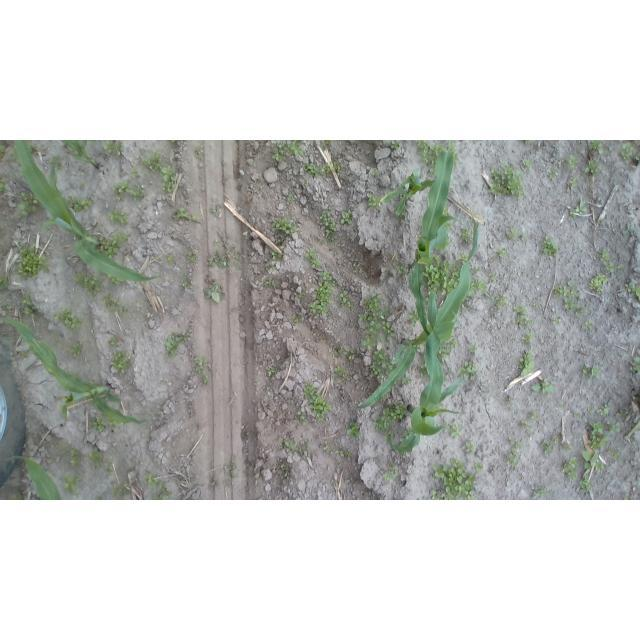Maize: (357, 213, 480, 409), (14, 141, 159, 282), (1, 317, 148, 425), (388, 291, 465, 457), (413, 151, 456, 338), (378, 168, 439, 216), (7, 456, 63, 501), (64, 141, 103, 170)
Weeds: (358, 291, 397, 349), (304, 244, 335, 316), (431, 459, 476, 500), (491, 156, 526, 196), (18, 240, 51, 279), (550, 279, 587, 313), (427, 255, 457, 296), (303, 382, 333, 421), (371, 403, 406, 434), (366, 348, 394, 377), (96, 232, 129, 256), (54, 308, 85, 333), (110, 177, 142, 201), (163, 332, 191, 358), (75, 270, 104, 295), (270, 141, 307, 160), (625, 395, 640, 441), (318, 208, 339, 240), (109, 350, 134, 375), (205, 252, 241, 269), (588, 421, 609, 450), (191, 355, 211, 384), (17, 192, 40, 217), (581, 449, 606, 471), (103, 294, 130, 314), (66, 196, 97, 212), (438, 342, 461, 363), (517, 350, 536, 375), (140, 151, 160, 174), (563, 457, 580, 484), (161, 164, 177, 192), (20, 291, 37, 317), (109, 207, 130, 228), (538, 237, 561, 256), (273, 218, 297, 236), (203, 281, 223, 302), (457, 361, 478, 381), (381, 462, 399, 485), (590, 273, 608, 296), (175, 207, 199, 224), (624, 278, 640, 303), (112, 481, 133, 500), (513, 305, 531, 327), (417, 141, 434, 164), (531, 380, 556, 395), (569, 198, 587, 218), (581, 362, 603, 378), (600, 248, 614, 273), (435, 142, 460, 155), (63, 475, 80, 494), (529, 486, 551, 500), (583, 159, 602, 175), (102, 141, 122, 156), (470, 281, 487, 298), (587, 141, 606, 156), (142, 473, 162, 487), (68, 342, 84, 359), (441, 423, 459, 438), (579, 475, 593, 494), (507, 449, 521, 468), (539, 439, 553, 458), (48, 153, 64, 169), (339, 290, 354, 307), (339, 209, 356, 224), (68, 448, 82, 466), (89, 416, 104, 432), (333, 365, 350, 379), (365, 192, 379, 209), (459, 226, 472, 244), (150, 489, 171, 500), (621, 142, 634, 159), (89, 452, 104, 466), (607, 421, 622, 435), (348, 421, 363, 435), (331, 346, 346, 360), (463, 442, 479, 455), (301, 164, 318, 176), (298, 438, 309, 456), (629, 356, 640, 374), (567, 154, 581, 168), (495, 295, 508, 310), (584, 321, 599, 334), (509, 437, 524, 449), (521, 332, 536, 344), (268, 249, 283, 261), (598, 404, 612, 416), (346, 352, 360, 364), (332, 160, 343, 174), (291, 313, 306, 323), (419, 365, 429, 380), (294, 176, 306, 188), (284, 442, 297, 453), (489, 272, 502, 283), (528, 411, 542, 421), (411, 311, 420, 326), (266, 365, 277, 377), (398, 266, 410, 277), (186, 252, 199, 262), (547, 168, 557, 181), (521, 159, 535, 168), (294, 412, 306, 422), (0, 275, 8, 290), (0, 146, 8, 161), (109, 275, 122, 284), (466, 346, 479, 355), (458, 251, 467, 264), (571, 175, 580, 188), (471, 265, 482, 275), (495, 247, 505, 258), (560, 442, 572, 451), (194, 145, 203, 157), (0, 306, 12, 315), (623, 224, 632, 236), (519, 420, 532, 428), (445, 365, 453, 378), (321, 163, 329, 176), (322, 140, 335, 148), (108, 338, 118, 348), (475, 462, 485, 472), (609, 450, 620, 459), (404, 377, 415, 386), (551, 317, 562, 326), (265, 262, 276, 270), (0, 178, 6, 192), (288, 193, 297, 202), (620, 408, 629, 417), (390, 140, 399, 149), (372, 168, 381, 177), (167, 253, 175, 263), (507, 228, 517, 236), (129, 166, 139, 174), (521, 230, 528, 241), (9, 152, 17, 161), (525, 141, 538, 146), (263, 279, 271, 287), (557, 399, 565, 407), (296, 292, 304, 300), (180, 279, 189, 286), (105, 468, 114, 475), (323, 445, 333, 451), (587, 405, 595, 412), (300, 179, 308, 186), (553, 434, 560, 442), (532, 301, 541, 307), (344, 451, 351, 458), (102, 459, 110, 465), (573, 411, 581, 417), (506, 397, 514, 403), (108, 421, 117, 426), (624, 493, 630, 500), (95, 496, 103, 501), (385, 434, 390, 441), (80, 182, 86, 187), (618, 263, 623, 269), (281, 464, 287, 469), (170, 140, 179, 142)
